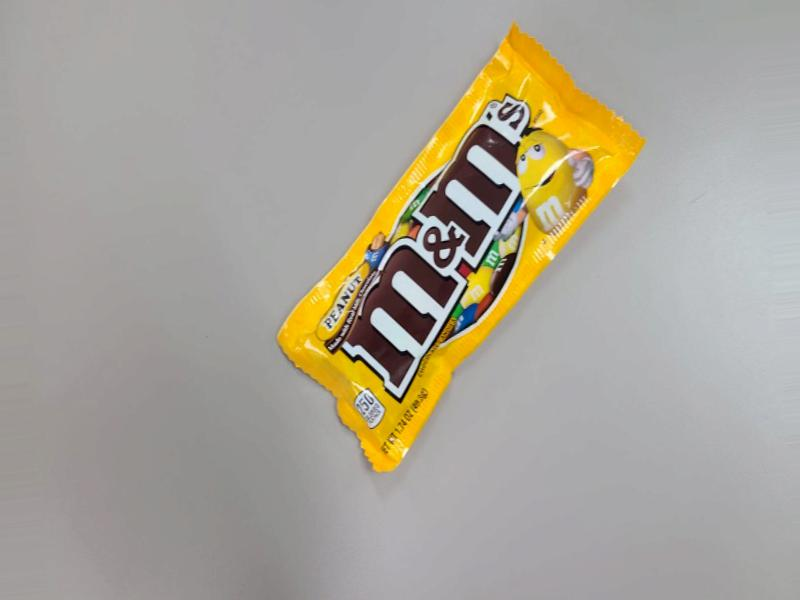m&m: (272, 18, 627, 457)
